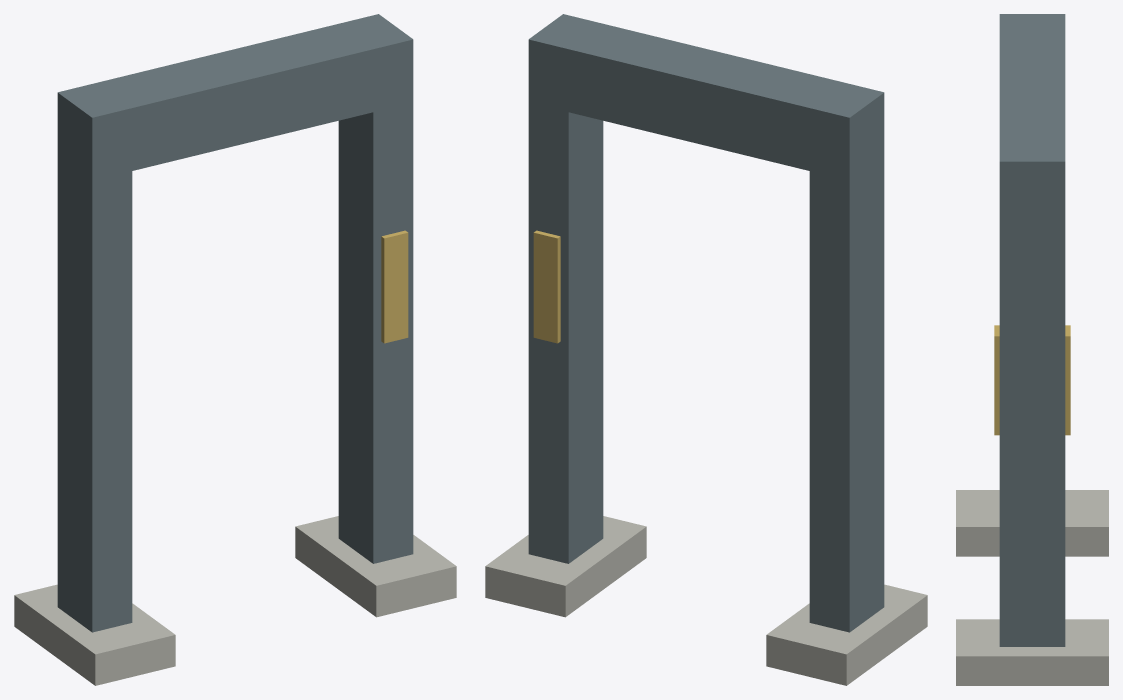
File: zombie-quarantine-streets-walkthrough-screen-3a5c9ee4__19325.glb
3 views of the same model, side by side, from view 1: azimuth 30°, elevation 25°; view 2: azimuth 150°, elevation 25°; view 3: azimuth 270°, elevation 25° (orthographic). The views are drawn at different scales.
Parts seen in each view (by area): view 1: walkthrough-screen; view 2: walkthrough-screen; view 3: walkthrough-screen.
Part boxes in pixels (x1,y1,x2,y2): walkthrough-screen: (14,14,456,685); walkthrough-screen: (485,14,927,685); walkthrough-screen: (956,14,1108,685).
Size of the model in its own units: 1.8 by 2.6 by 0.6999.
